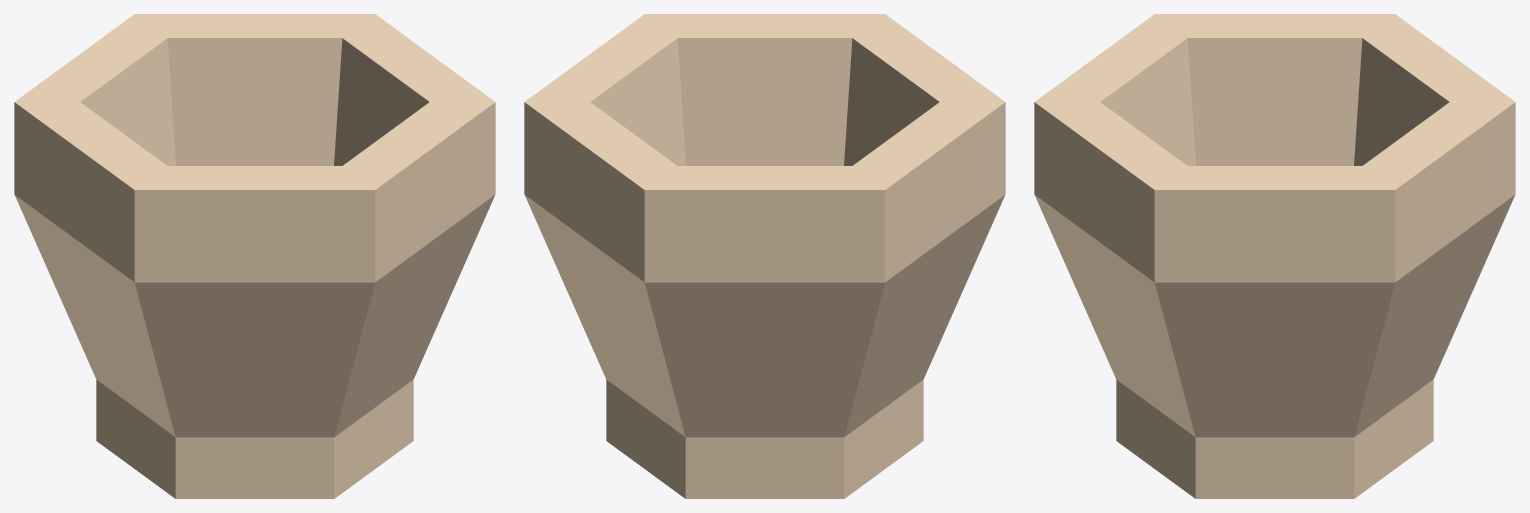
Rendered from ice_cream_cup.glb.
The picture shows the model from 3 angles, left to right: view 1: azimuth 30°, elevation 25°; view 2: azimuth 150°, elevation 25°; view 3: azimuth 270°, elevation 25°; orthographic projection.
Parts seen in each view (by area): view 1: iceCreamCup; view 2: iceCreamCup; view 3: iceCreamCup.
Boxes of the visible parts, box(x1,y1,x2,y2) form: iceCreamCup: box(14, 14, 495, 498); iceCreamCup: box(524, 14, 1005, 498); iceCreamCup: box(1034, 14, 1515, 498).
Size of the model in its own units: 0.2011 by 0.1804 by 0.2322.
